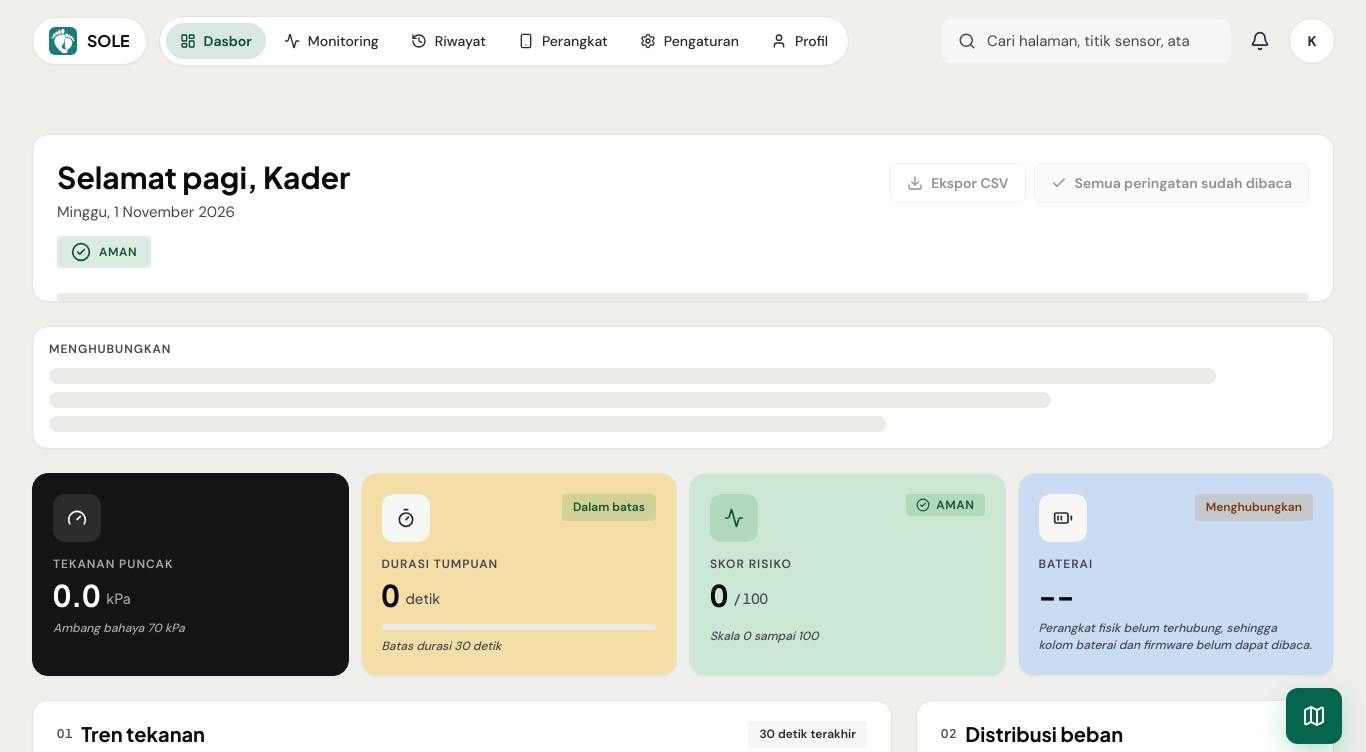
Shell controls › reports no match instead of showing an empty popup
Step 1. Type "zzzz" into the dropdown named "cari halaman atau catatan" → (1086, 41), box [942,19,1230,63]
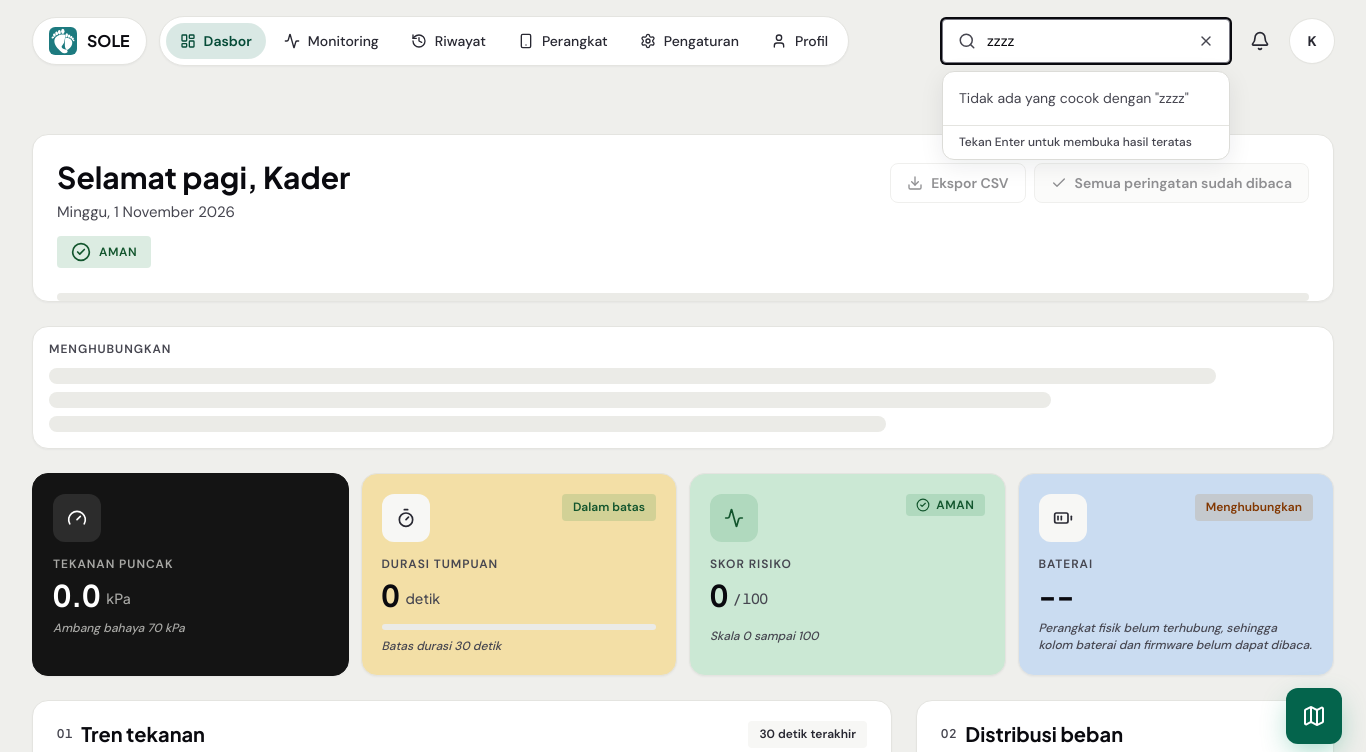
Expected: the text "Tidak ada yang cocok dengan \"zzzz\"" is shown, [959,89,1189,107]
